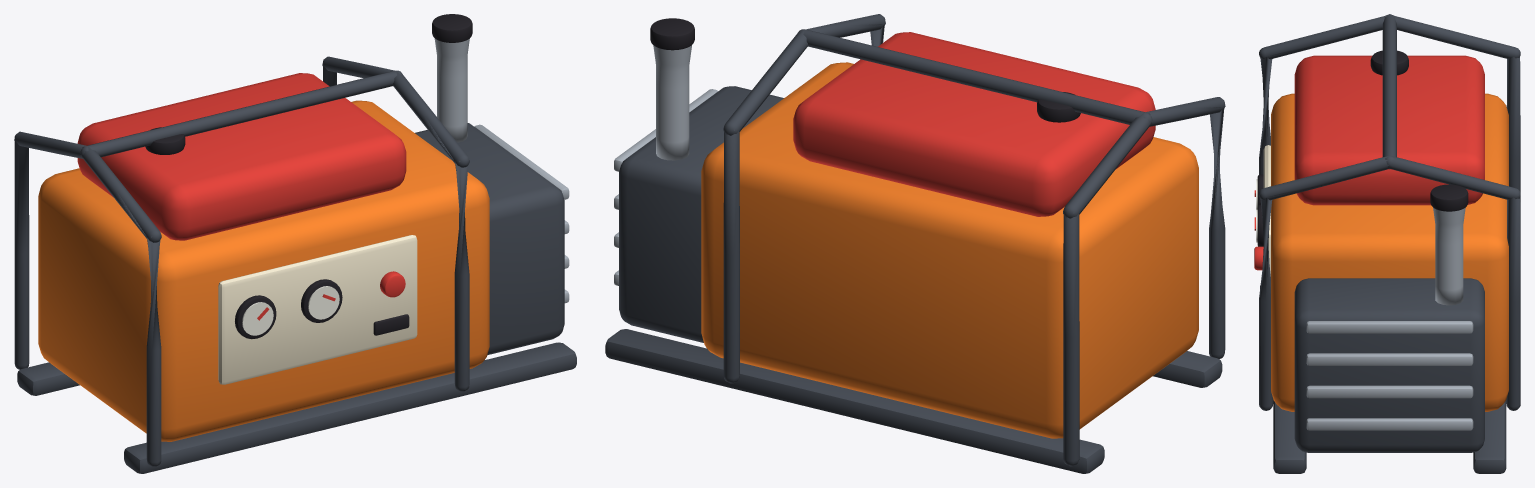
Rendered from Generator.fbx.
The picture shows the model from 3 angles, left to right: view 1: azimuth 30°, elevation 25°; view 2: azimuth 150°, elevation 25°; view 3: azimuth 270°, elevation 25°; orthographic projection. The views are drawn at different scales.
Visible parts, largest first — view 1: Prop_Generator; view 2: Prop_Generator; view 3: Prop_Generator.
Boxes of the visible parts, box(x1,y1,x2,y2) form: Prop_Generator: box(14, 14, 576, 473); Prop_Generator: box(605, 14, 1225, 473); Prop_Generator: box(1254, 14, 1520, 473).
Size of the model in its own units: 2.04 by 1.25 by 1.12.
